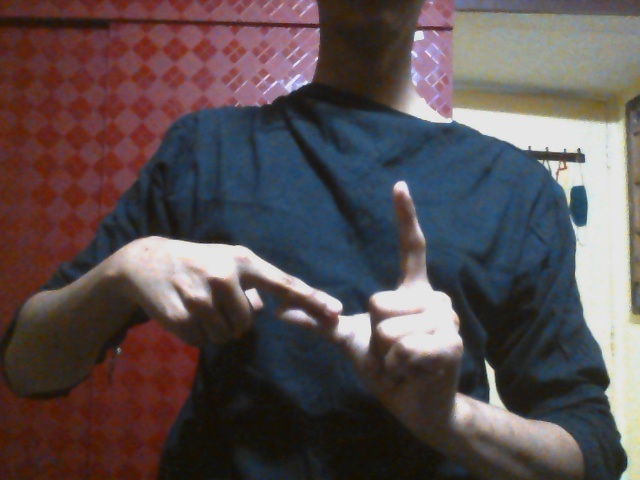J: (204, 180, 464, 389)
